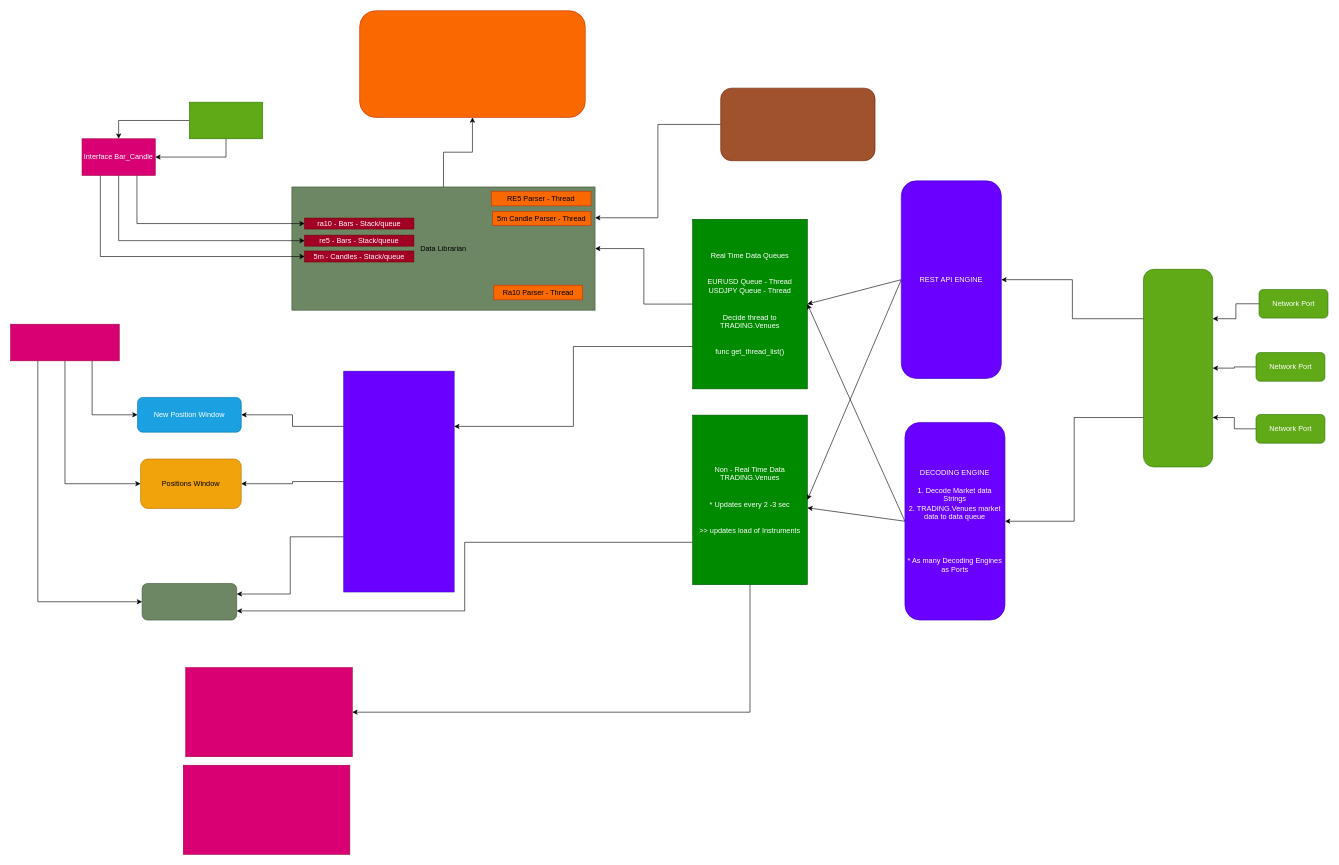
This 1339x865 diagram has some shape labels left out. The shapes that lost their labels are listed below. From the top down, each one's centre as x and y in pixels, then its label:
point (472, 63): CHART PLOTTER
point (226, 120): Abstract Class Bar
point (797, 124): MARKET DATA FILES
point (64, 342): Interface calculator
point (1178, 368): Network Engine 1. Receive strings 2. TRADING.Venues Decoding Engine
point (398, 481): Latest Tick Distributor update every 0.5 secs
point (189, 601): Portfolio Window
point (268, 712): MARKET SCANNER
point (266, 809): Crypto Market Cap
